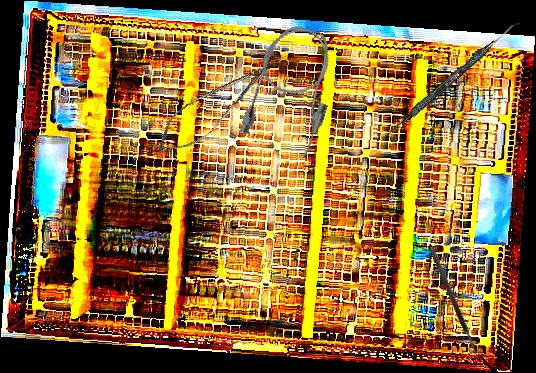Cannula: (237, 18, 348, 161)
Hook Surgical: (428, 243, 491, 369)
Micro Scissor: (144, 42, 289, 167)
Spatula Surgical: (383, 16, 521, 142)
